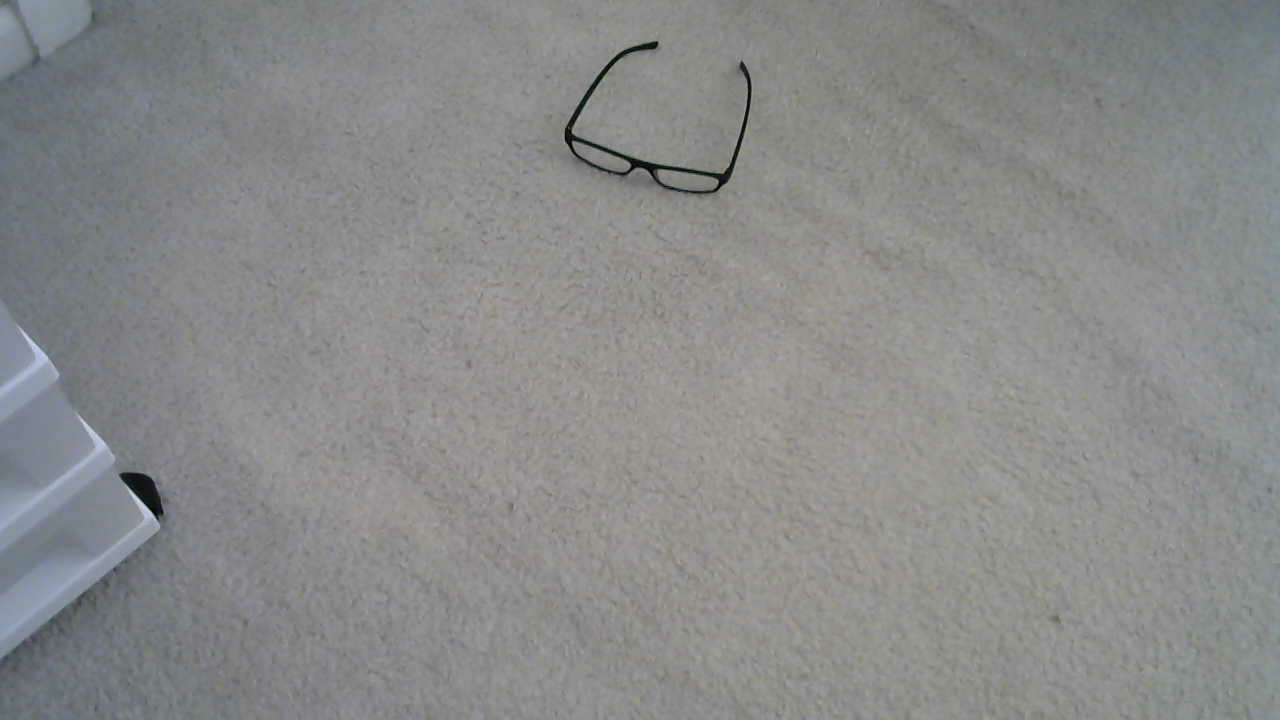Glasses: (542, 27, 773, 213)
